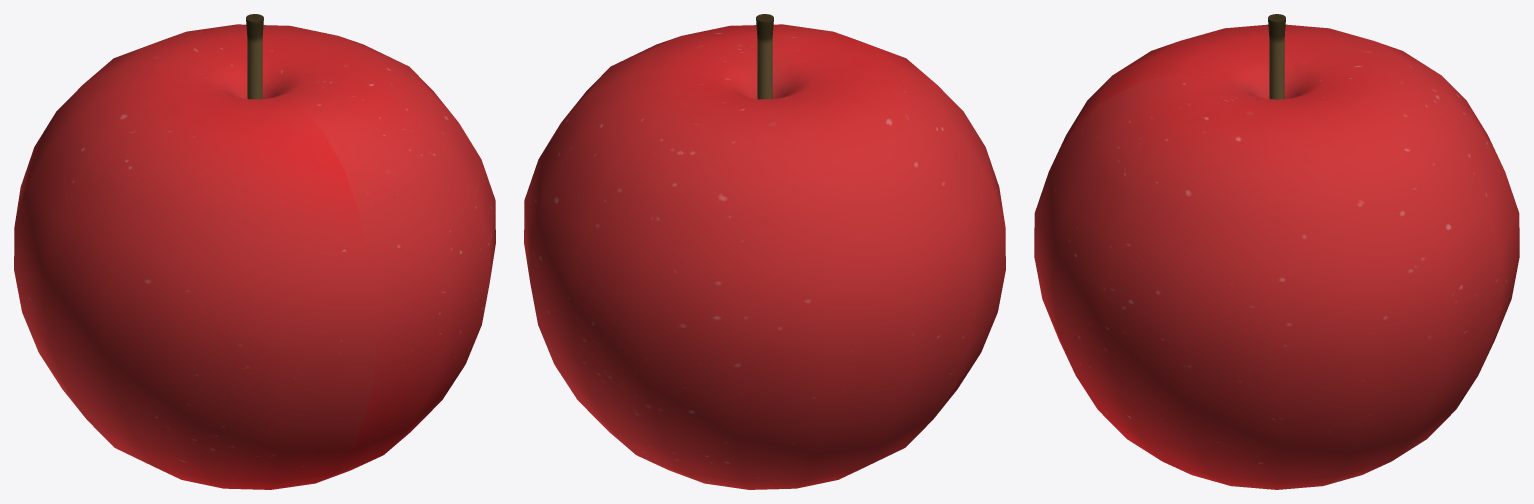
Rendered from Apple.fbx.
3 renders of one model, left to right at view 1: azimuth 30°, elevation 25°; view 2: azimuth 150°, elevation 25°; view 3: azimuth 270°, elevation 25°, orthographic.
Parts seen in each view (by area): view 1: Apple; view 2: Apple; view 3: Apple.
Part boxes in pixels (x1=…): Apple: x1=14, y1=14, x2=495, y2=489; Apple: x1=524, y1=14, x2=1005, y2=489; Apple: x1=1034, y1=14, x2=1519, y2=489.
Bounding box in the file's own units: 60.03 × 60 × 60.03.
